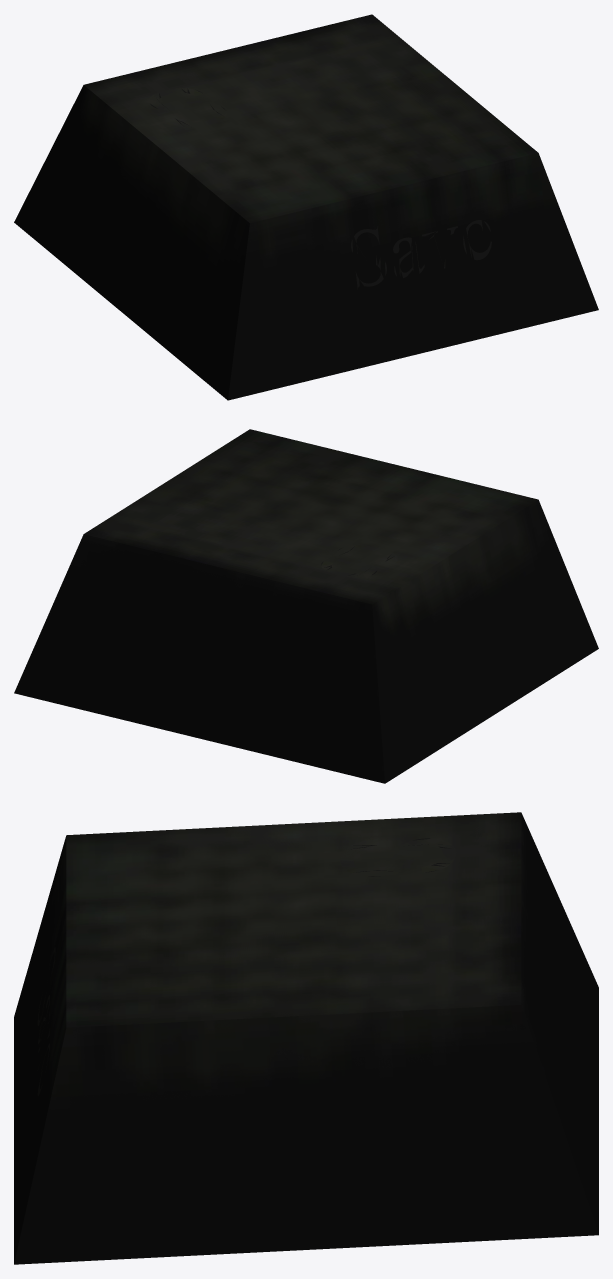
Rendered from link_5__key-11.glb.
The picture shows the model from 3 angles, top to bottom: view 1: azimuth 30°, elevation 25°; view 2: azimuth 150°, elevation 25°; view 3: azimuth 270°, elevation 25°; orthographic projection. The views are drawn at different scales.
Visible parts, largest first — view 1: geometry_0; view 2: geometry_0; view 3: geometry_0.
Part boxes in pixels (bbox=[...]): geometry_0: bbox=[14, 14, 598, 400]; geometry_0: bbox=[14, 429, 598, 783]; geometry_0: bbox=[14, 812, 598, 1264].
Bounding box in the file's own units: 0.0719 × 0.0315 × 0.0718.
Materials: 1 (1 with a texture image).
